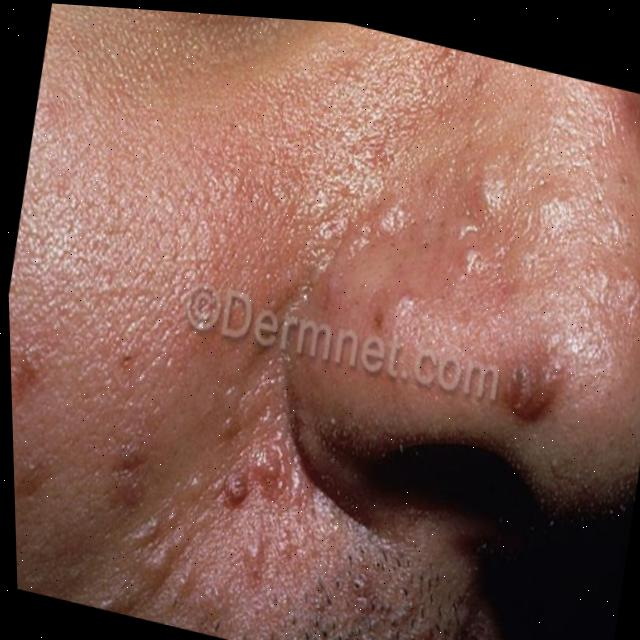Rosacea: (11, 356, 297, 553), (371, 131, 528, 298), (497, 330, 597, 466)
